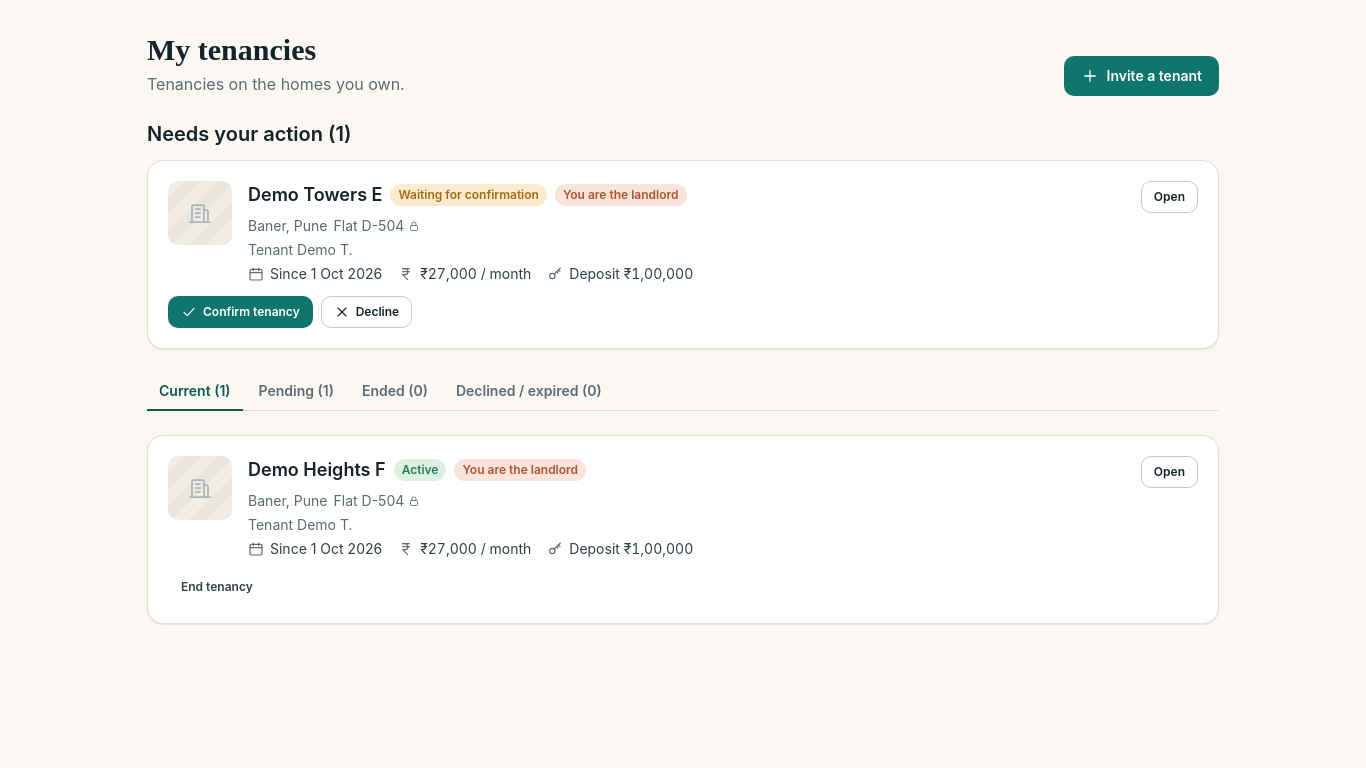
it: MyTenanciesPage › never sends a refused confirm to a verify step: posting needs no verification (D-163)
Click the button "Confirm tenancy" at (240, 312), box [168,296,313,328]
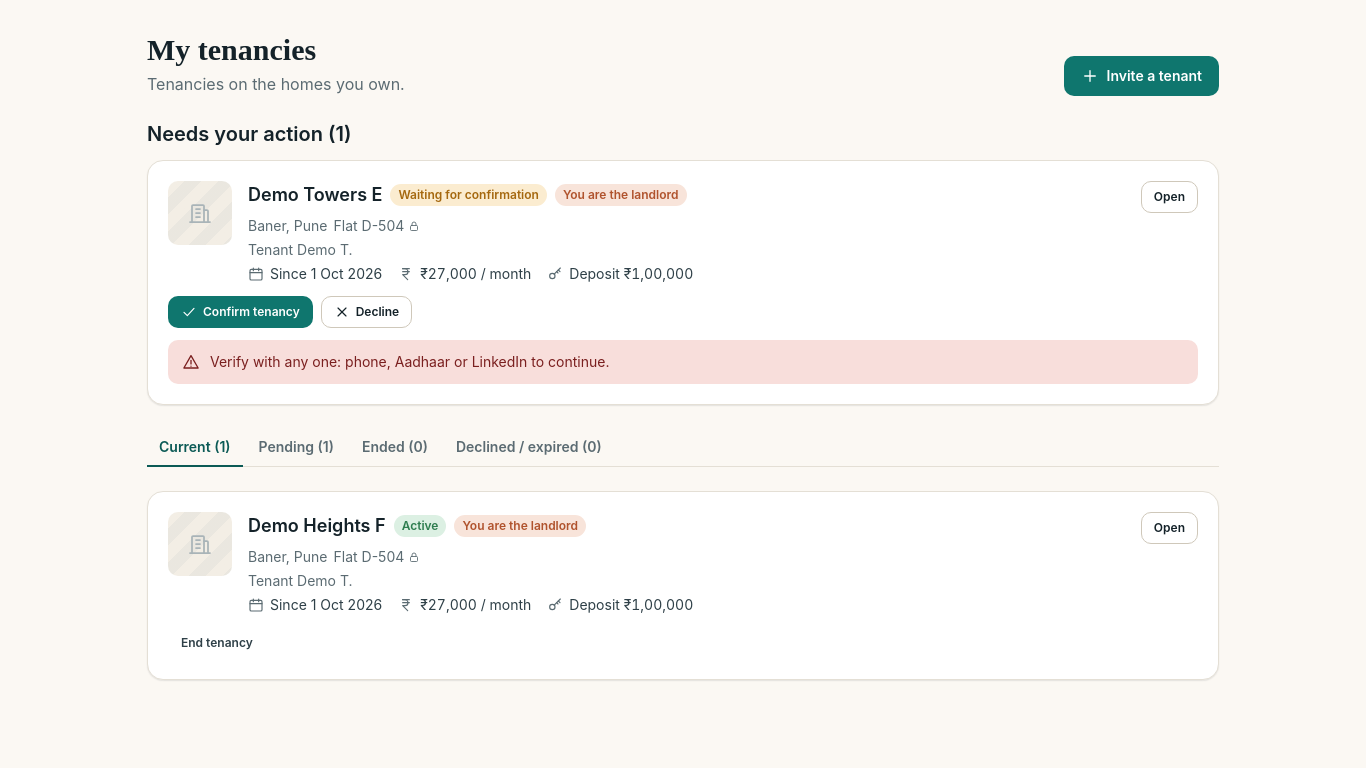
Result: the text "Verify with any one: phone, Aadhaar or LinkedIn to continue." is shown at [210,353,609,370]
